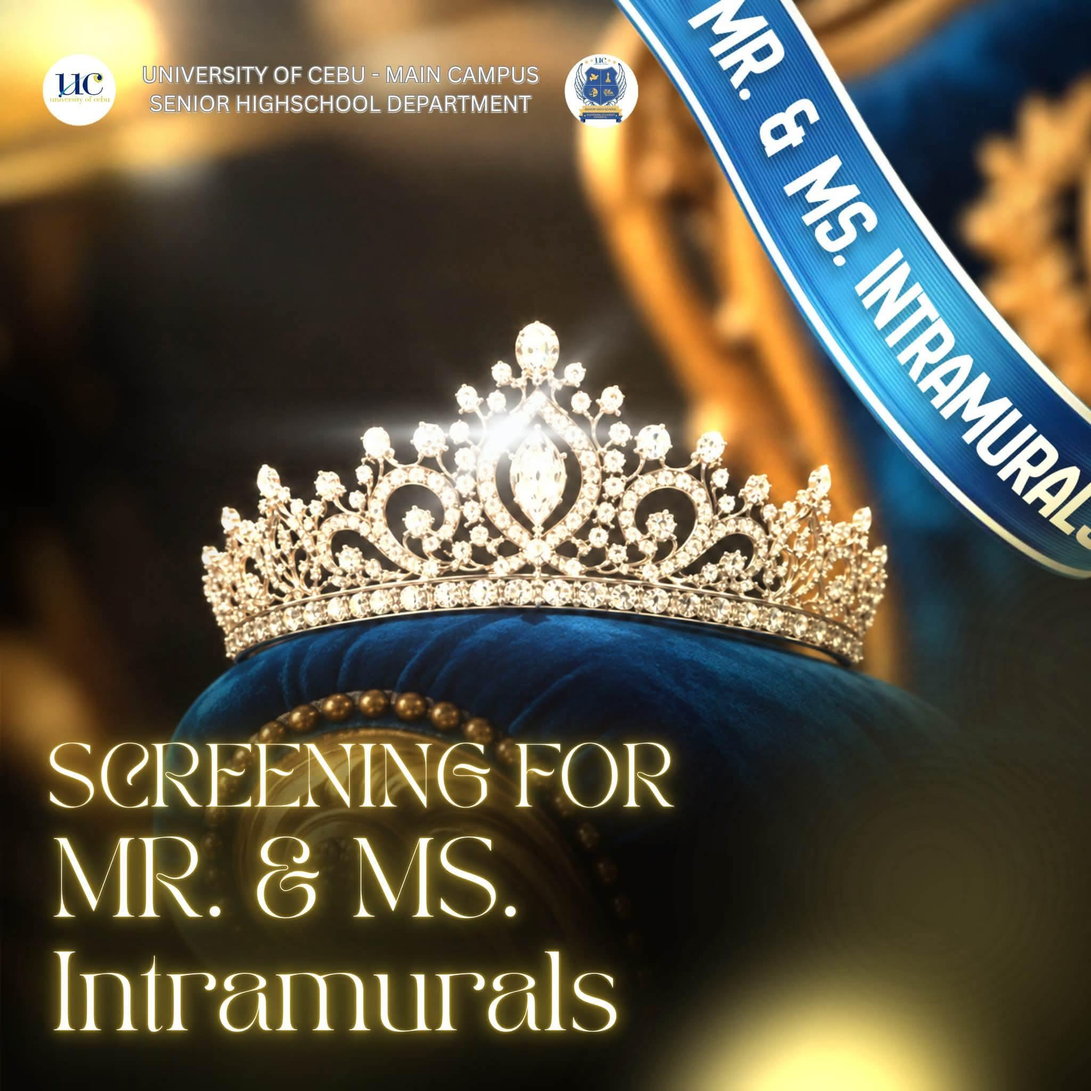embellishment: (181, 305, 890, 666)
logo: (558, 48, 646, 128), (39, 49, 123, 131)
text: (680, 0, 1090, 559), (35, 727, 689, 1045), (136, 56, 549, 121)
underlay: (609, 0, 1090, 577)
